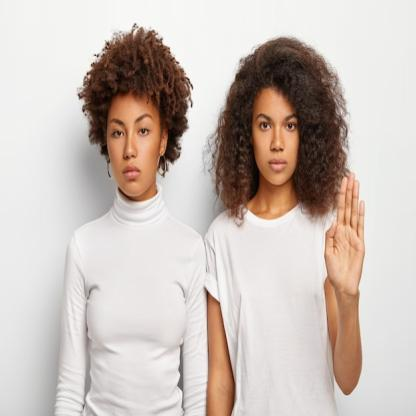stop: (324, 169, 370, 301)
